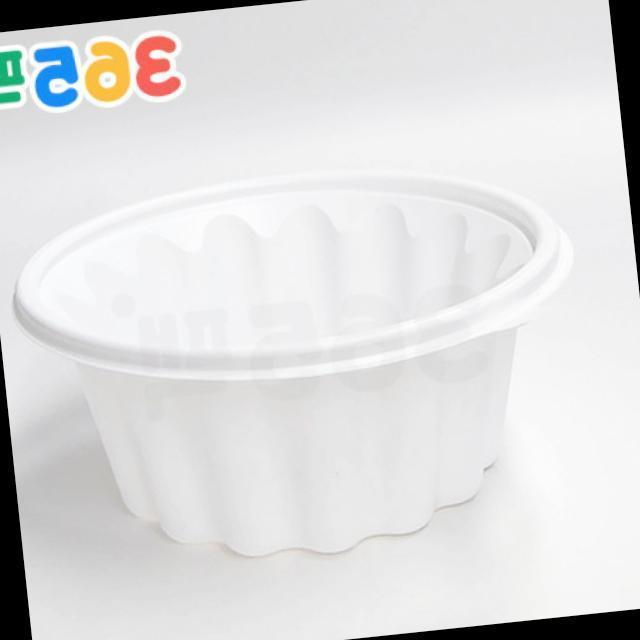disposable: (0, 160, 605, 572)
